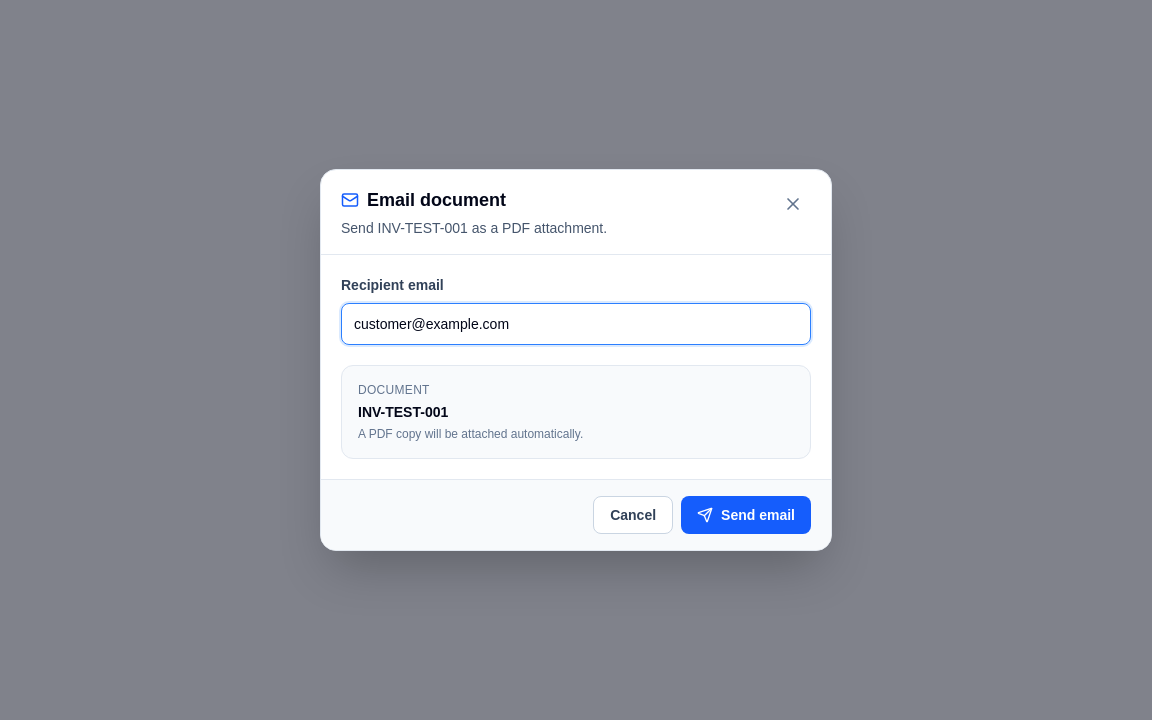
Scenario: DocumentEmailDialog › shows a success message after sending
What coordinates should you click on to do the following:
click the button "Send email"
I would click on:
 (746, 515)
Its box is [681,496,811,534].
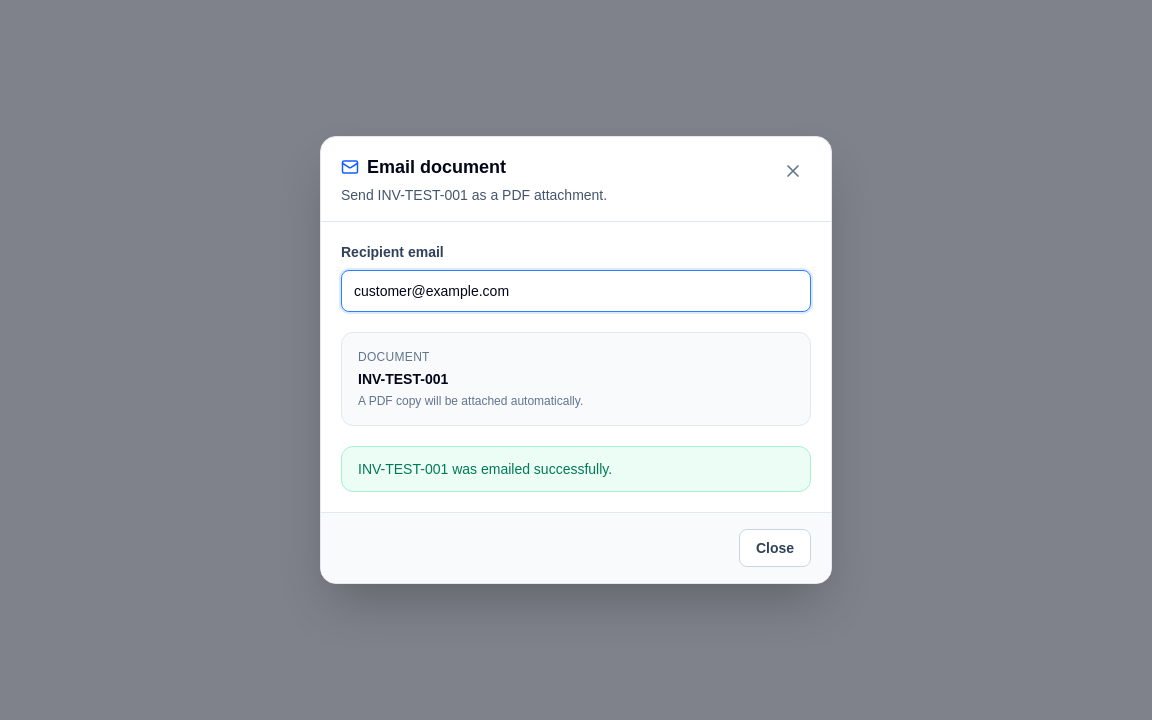
Expected: the message reads "INV-TEST-001 was emailed successfully.", [358,461,612,477]
